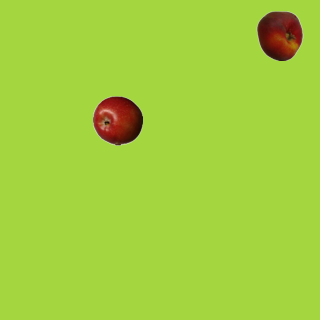Apple Braeburn: (92, 95, 142, 145)
Nectarine Flat: (254, 10, 304, 60)
